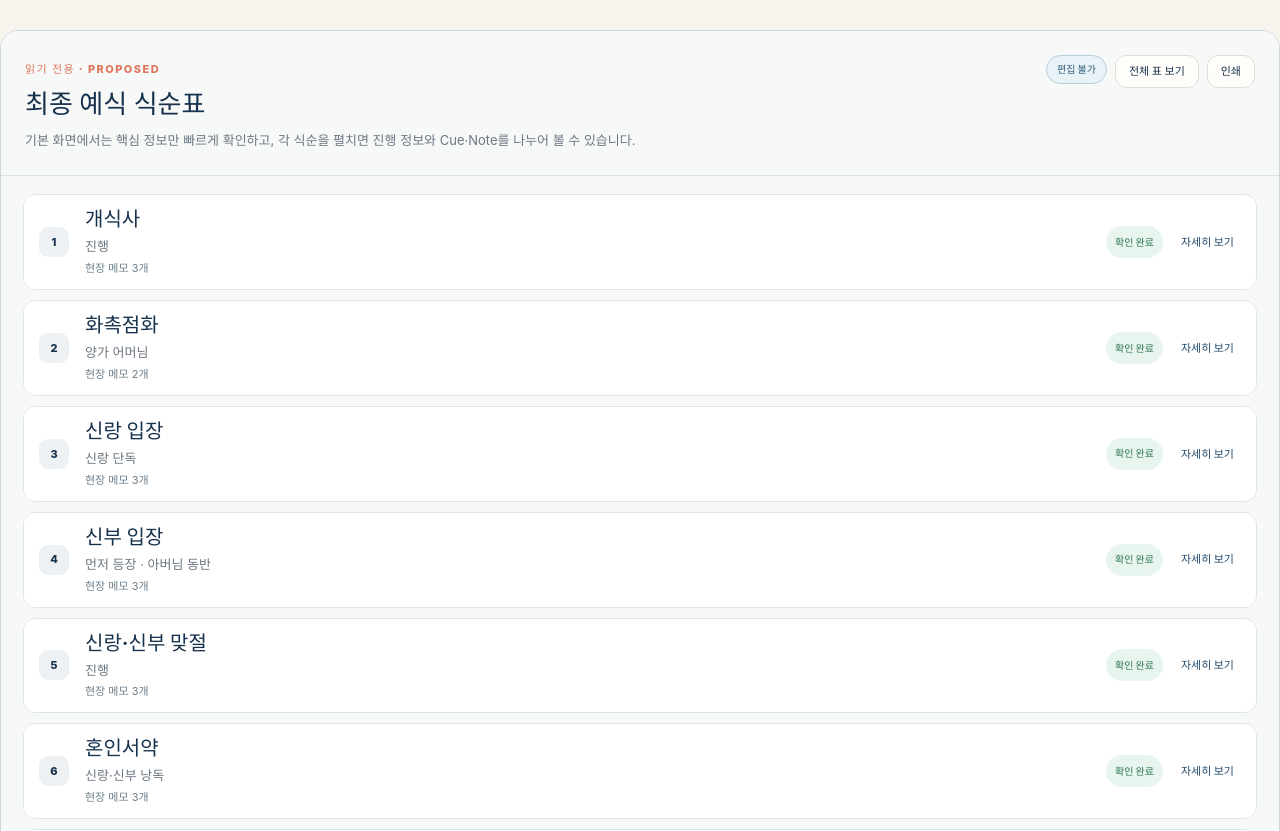
FinalCeremonySheet › 축가 카드 2개를 축가 2곡으로 입력 순서대로 표시한다
Click the button "전체 표 보기" at (1157,71), box x1=1115 y1=55 x2=1199 y2=88
(page scrolled)
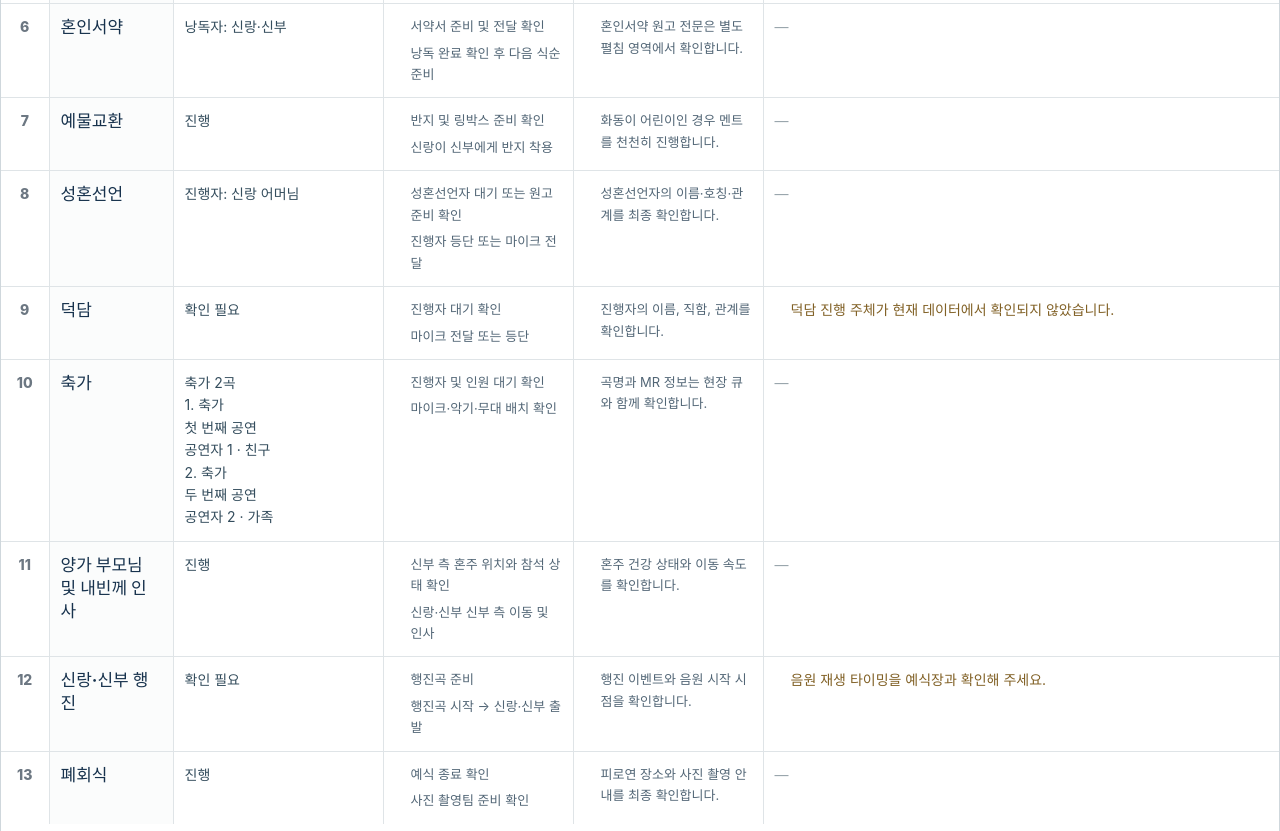
Now the text "축가 2곡 1. 축가 첫 번째 공연 공연자 1 · 친구 2. 축가 두 번째 공연 공연자 2 · 가족" is shown, box x1=173 y1=360 x2=383 y2=541
